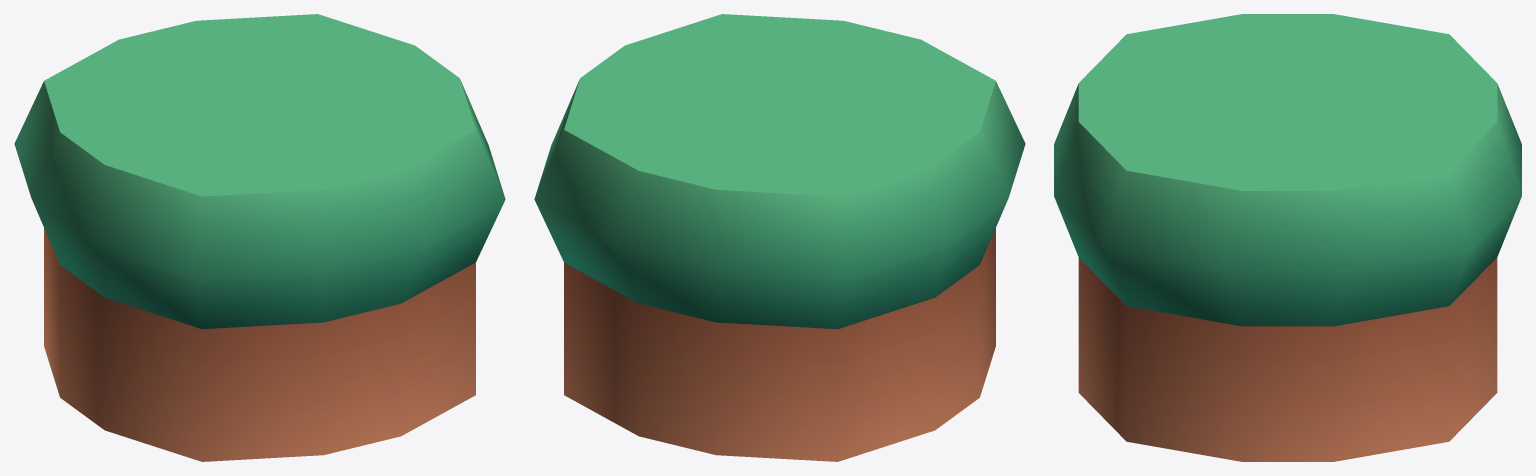
File: kenney-platformer-block-grass-low-narrow.glb
3 views of the same model, side by side, from view 1: azimuth 30°, elevation 25°; view 2: azimuth 150°, elevation 25°; view 3: azimuth 270°, elevation 25° (orthographic). The views are drawn at different scales.
Visible parts, largest first — view 1: block-grass-low-narrow; view 2: block-grass-low-narrow; view 3: block-grass-low-narrow.
Part boxes in pixels (bbox=[...]): block-grass-low-narrow: bbox=[14, 14, 505, 461]; block-grass-low-narrow: bbox=[534, 14, 1025, 461]; block-grass-low-narrow: bbox=[1054, 14, 1521, 461].
Size of the model in its own units: 0.7821 by 0.5 by 0.7821.
1 material, 1 textured.
